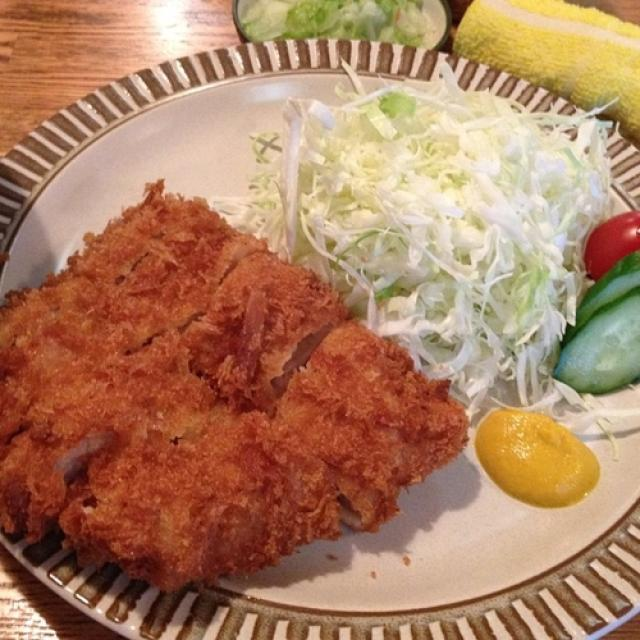牛肉菜式: (12, 47, 638, 631)
